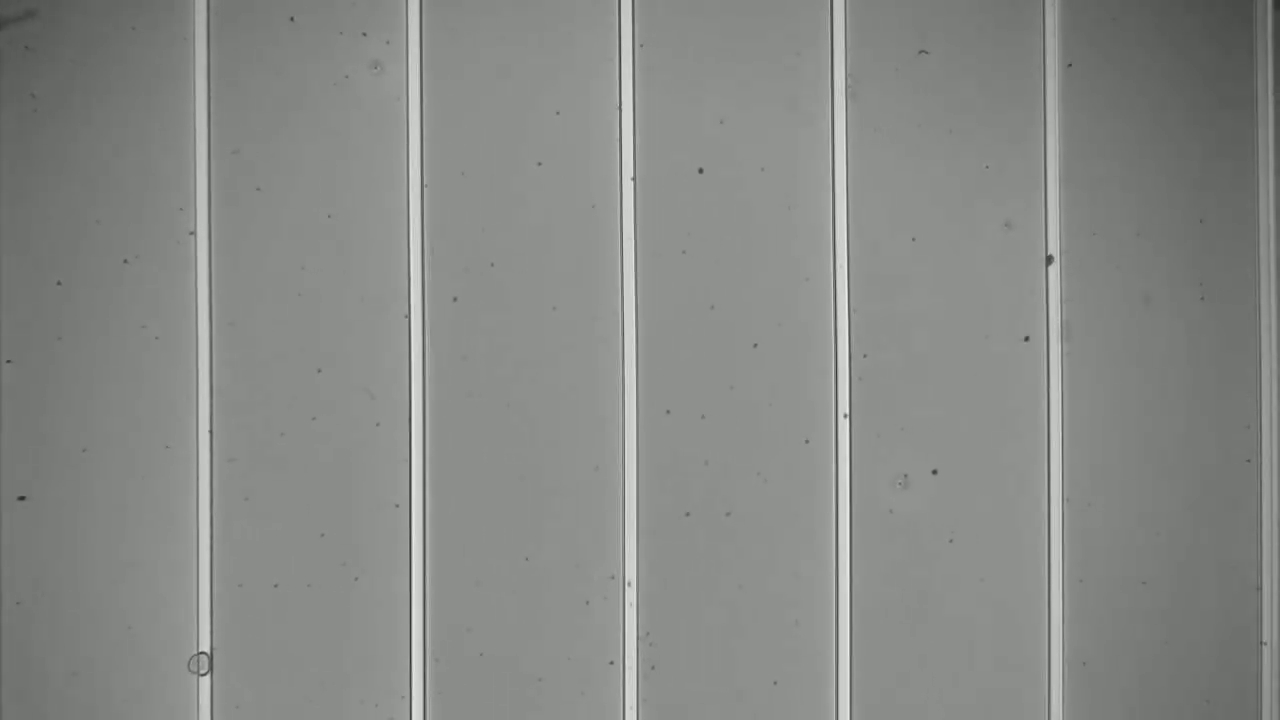stains_enbedded: (1040, 246, 1065, 271)
